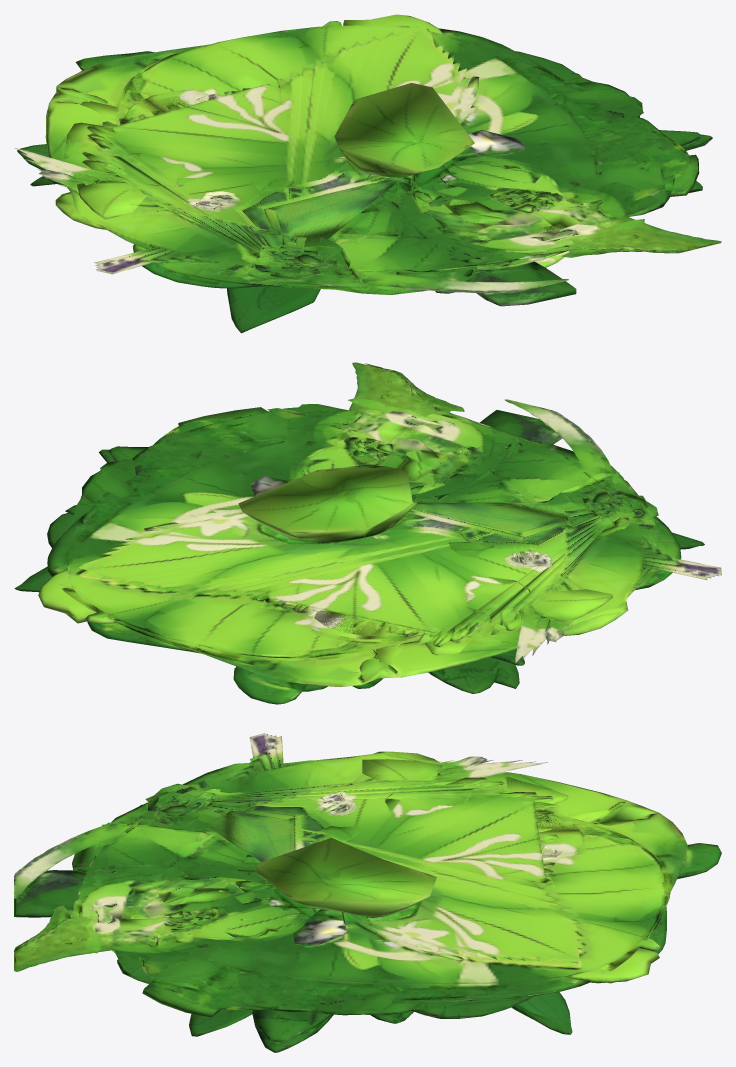
The model's file is prop_herb_bush_v1.glb.
3 views of the same model, one above another, from view 1: azimuth 30°, elevation 25°; view 2: azimuth 150°, elevation 25°; view 3: azimuth 270°, elevation 25° (orthographic). The views are drawn at different scales.
Bounding box in the file's own units: 1.95 × 0.2035 × 1.96.
1 material, 1 textured.
